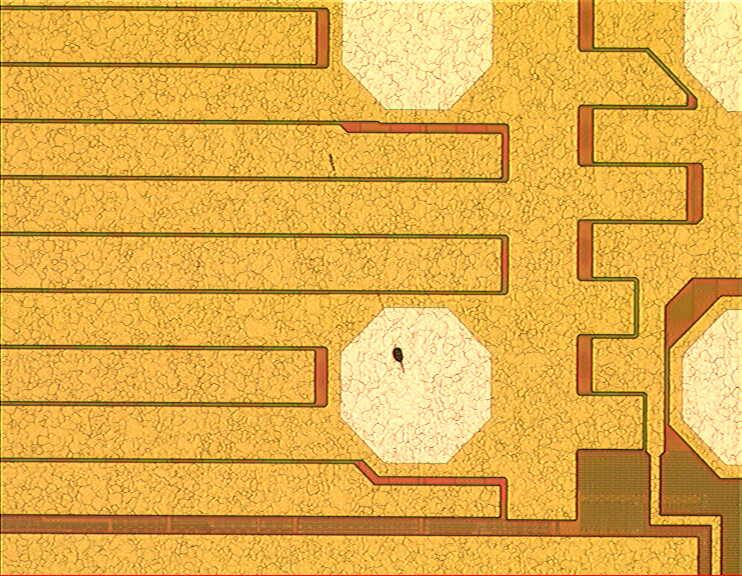SCRATCH: (323, 148, 411, 377)
